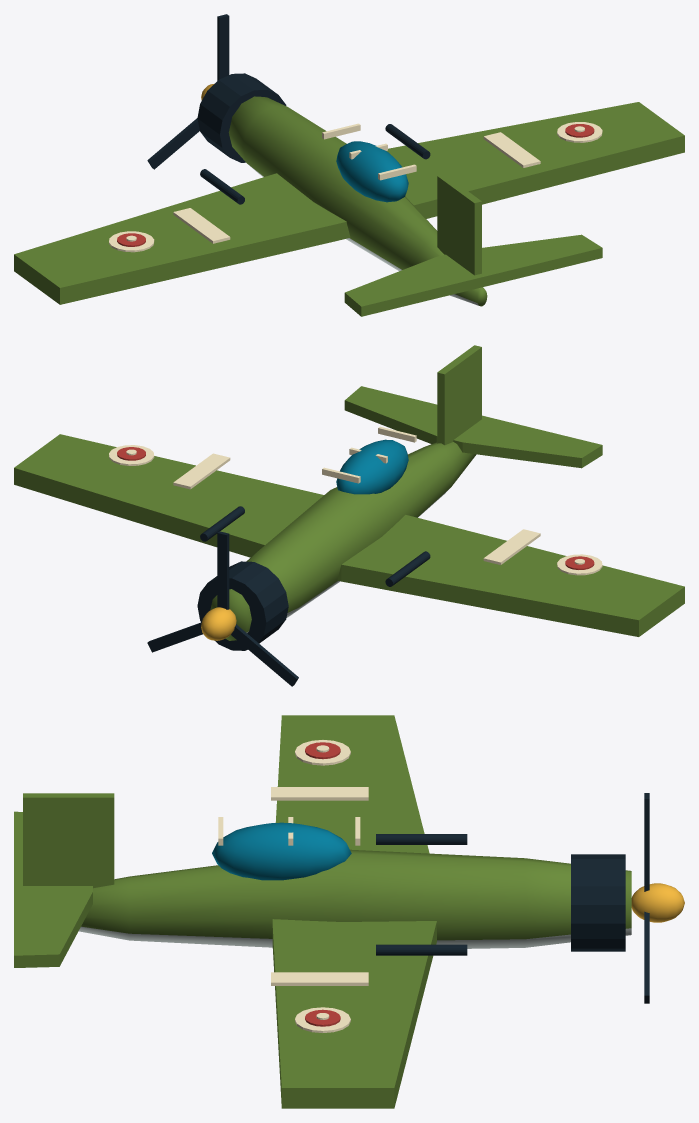
The model's file is interceptor.glb.
3 renders of one model, top to bottom at view 1: azimuth 30°, elevation 25°; view 2: azimuth 150°, elevation 25°; view 3: azimuth 270°, elevation 25°, orthographic. The views are drawn at different scales.
Visible parts, largest first — view 1: interceptor-interceptor-geometry, interceptor-propeller_00.008-geometry; view 2: interceptor-interceptor-geometry, interceptor-propeller_00.008-geometry; view 3: interceptor-interceptor-geometry, interceptor-propeller_00.008-geometry.
Boxes of the visible parts, left/top/right/bottom form: interceptor-interceptor-geometry: left=14, top=73, right=684, bottom=316; interceptor-propeller_00.008-geometry: left=147, top=14, right=229, bottom=169; interceptor-interceptor-geometry: left=14, top=345, right=684, bottom=650; interceptor-propeller_00.008-geometry: left=147, top=531, right=298, bottom=686; interceptor-interceptor-geometry: left=14, top=715, right=684, bottom=1108; interceptor-propeller_00.008-geometry: left=644, top=793, right=649, bottom=1003.
Bounding box in the file's own units: 2.9 × 0.6035 × 2.21.
